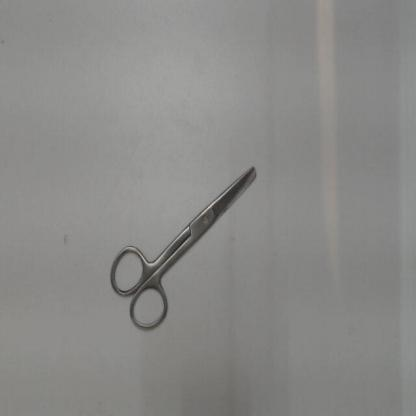Dressing Scissors: (97, 152, 266, 340)
